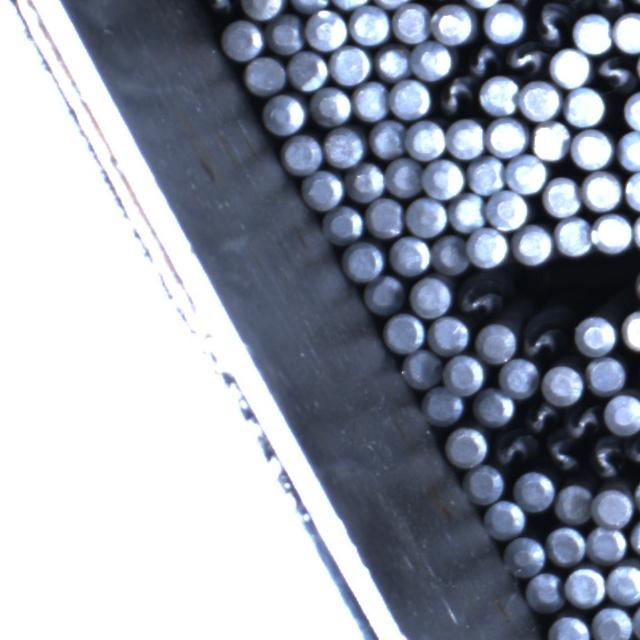tool: (431, 3, 477, 44), (570, 126, 614, 168), (409, 276, 452, 318), (306, 8, 348, 50), (446, 425, 488, 467), (264, 91, 307, 132), (482, 3, 525, 44), (328, 44, 372, 84), (487, 116, 531, 156), (405, 196, 447, 237), (324, 125, 366, 166), (390, 78, 432, 119), (478, 75, 520, 116), (581, 168, 622, 210), (343, 240, 385, 281), (422, 158, 465, 198), (564, 86, 607, 126), (444, 353, 485, 394), (511, 224, 552, 265), (223, 18, 264, 59), (485, 189, 527, 229), (548, 48, 590, 88), (542, 364, 584, 404), (566, 566, 606, 608), (504, 535, 546, 575), (519, 80, 561, 120), (576, 314, 618, 354), (514, 470, 556, 510), (506, 155, 549, 194), (412, 39, 455, 78), (473, 388, 516, 427), (468, 228, 509, 268), (348, 5, 389, 45), (431, 314, 472, 354), (485, 498, 526, 538), (287, 50, 328, 90), (310, 85, 351, 125), (391, 236, 432, 276), (475, 322, 516, 362), (302, 168, 343, 208), (593, 213, 633, 254), (592, 486, 633, 526), (573, 11, 612, 53), (366, 196, 405, 238), (526, 571, 565, 613), (264, 12, 303, 54), (345, 161, 385, 201), (386, 313, 426, 353), (588, 522, 628, 562), (393, 1, 432, 42), (554, 216, 593, 257), (544, 176, 583, 217), (322, 203, 363, 242), (464, 464, 505, 503), (422, 386, 464, 424), (406, 120, 445, 160), (284, 134, 323, 174), (531, 120, 570, 160), (247, 54, 287, 93), (547, 525, 587, 564), (403, 348, 443, 387), (363, 274, 403, 313), (369, 119, 408, 159), (586, 355, 626, 394), (498, 356, 538, 395), (446, 117, 484, 158), (467, 156, 506, 195), (556, 482, 594, 522), (432, 234, 469, 275), (605, 392, 640, 435), (386, 156, 423, 196), (446, 192, 484, 230), (351, 81, 388, 120), (590, 606, 631, 640), (607, 563, 640, 605), (374, 44, 412, 80), (613, 11, 640, 52), (548, 614, 590, 640), (618, 130, 640, 170), (241, 0, 285, 19), (621, 307, 640, 350), (624, 89, 640, 130), (624, 169, 640, 210), (288, 0, 330, 12), (630, 518, 640, 558), (332, 0, 372, 9), (631, 600, 640, 639), (372, 0, 413, 8), (633, 211, 640, 253), (464, 0, 504, 7)
tool_b: (519, 307, 568, 359), (457, 275, 506, 319), (530, 0, 572, 45), (588, 434, 625, 480), (542, 433, 582, 475), (493, 428, 537, 466), (438, 75, 478, 116), (593, 53, 635, 91), (503, 41, 546, 77), (562, 403, 601, 439), (464, 42, 501, 77), (522, 401, 560, 433), (195, 0, 238, 15), (624, 432, 640, 467), (594, 0, 632, 13)
